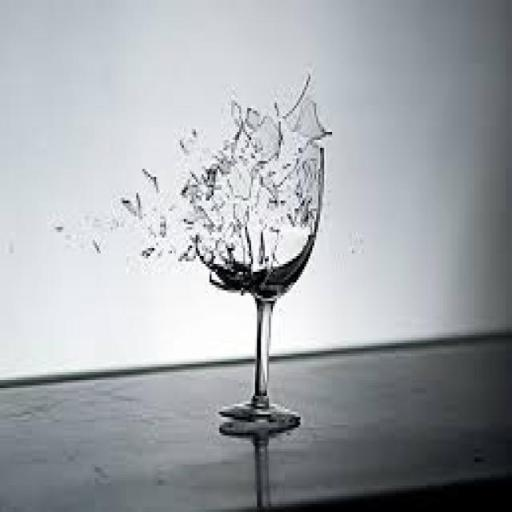glass: (183, 80, 344, 462)
